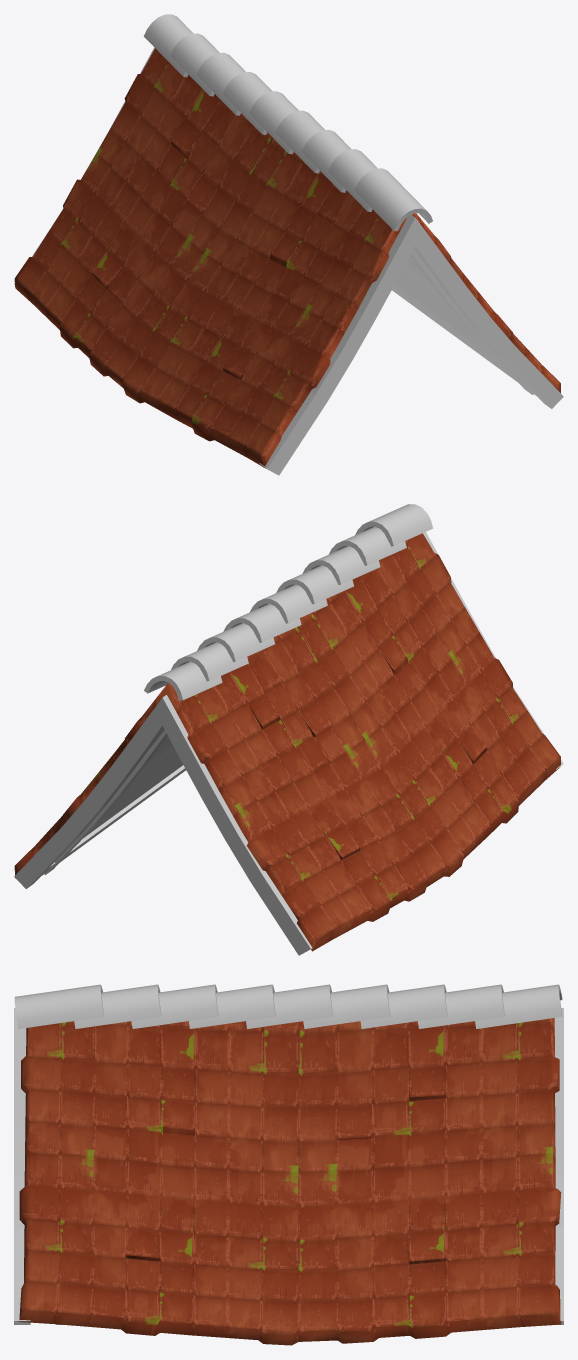
Rendered from Roof_FlatTiles_4x6.fbx.
The picture shows the model from 3 angles, top to bottom: view 1: azimuth 30°, elevation 25°; view 2: azimuth 150°, elevation 25°; view 3: azimuth 270°, elevation 25°; orthographic projection. The views are drawn at different scales.
Visible parts, largest first — view 1: Roof_FlatTiles_4x6; view 2: Roof_FlatTiles_4x6; view 3: Roof_FlatTiles_4x6.
Boxes of the visible parts, box(x1,y1,x2,y2) form: Roof_FlatTiles_4x6: box(14, 14, 563, 475); Roof_FlatTiles_4x6: box(14, 504, 563, 955); Roof_FlatTiles_4x6: box(14, 984, 563, 1345).
Size of the model in its own units: 570 by 415 by 757.
